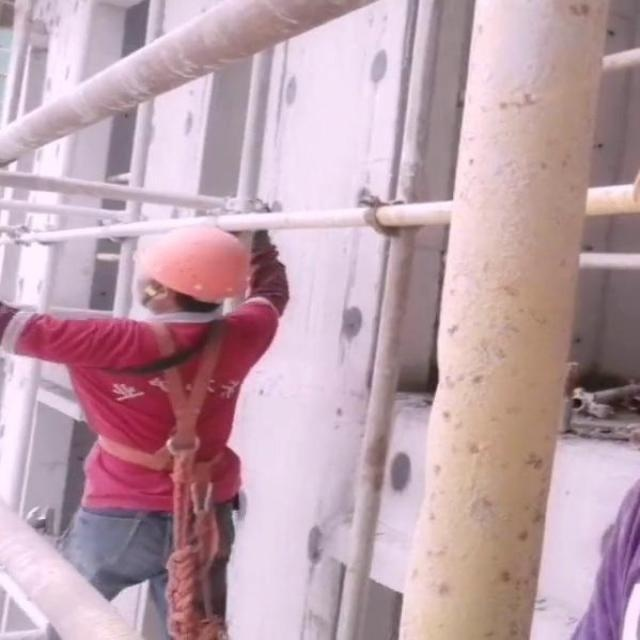Arnes_seguridad: (80, 311, 262, 510)
